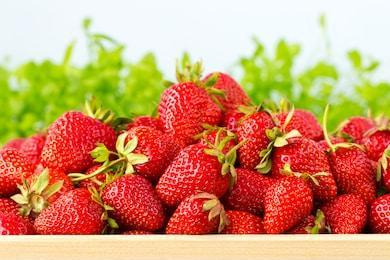Fresa: (154, 141, 234, 210), (40, 108, 119, 177), (267, 133, 339, 204), (155, 78, 224, 150), (96, 169, 166, 232), (31, 183, 108, 234), (117, 124, 183, 183), (258, 171, 317, 235), (323, 141, 378, 208), (233, 104, 279, 173), (167, 188, 224, 235)
